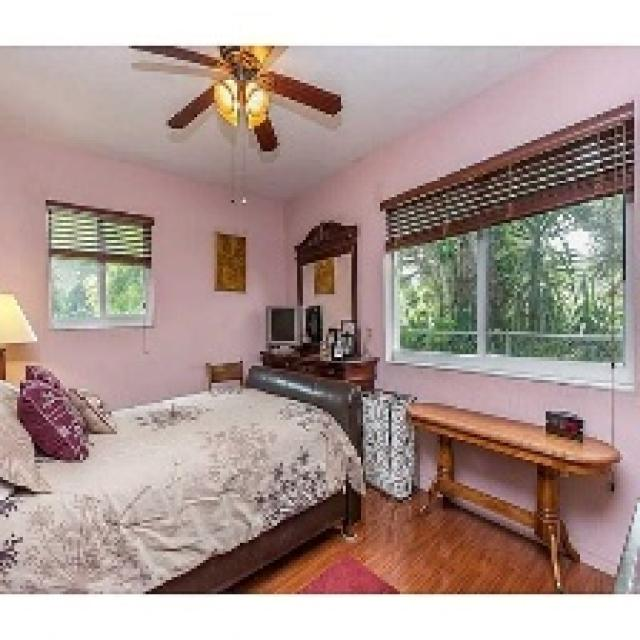Bed: (0, 357, 366, 592)
